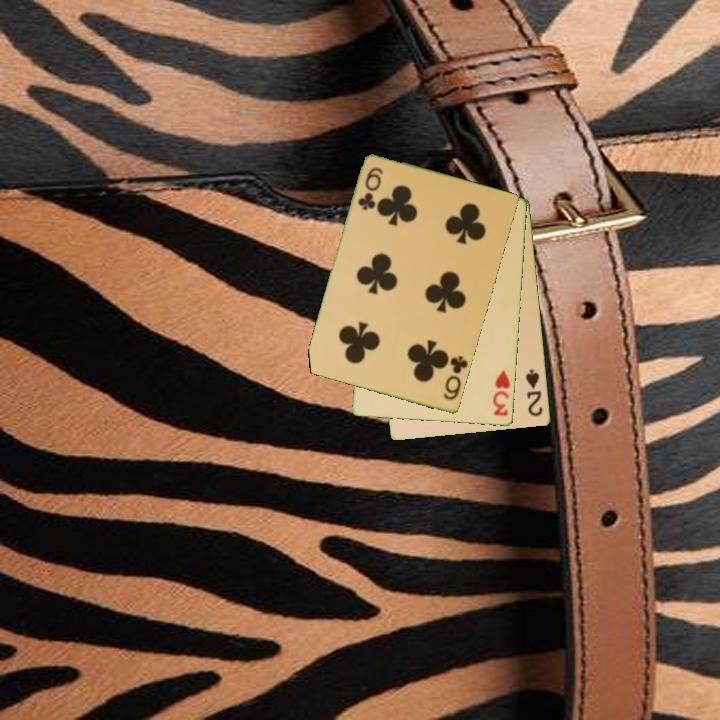2s: (522, 366, 546, 419)
3h: (490, 367, 513, 419)
6c: (354, 164, 386, 214), (440, 352, 471, 403)
